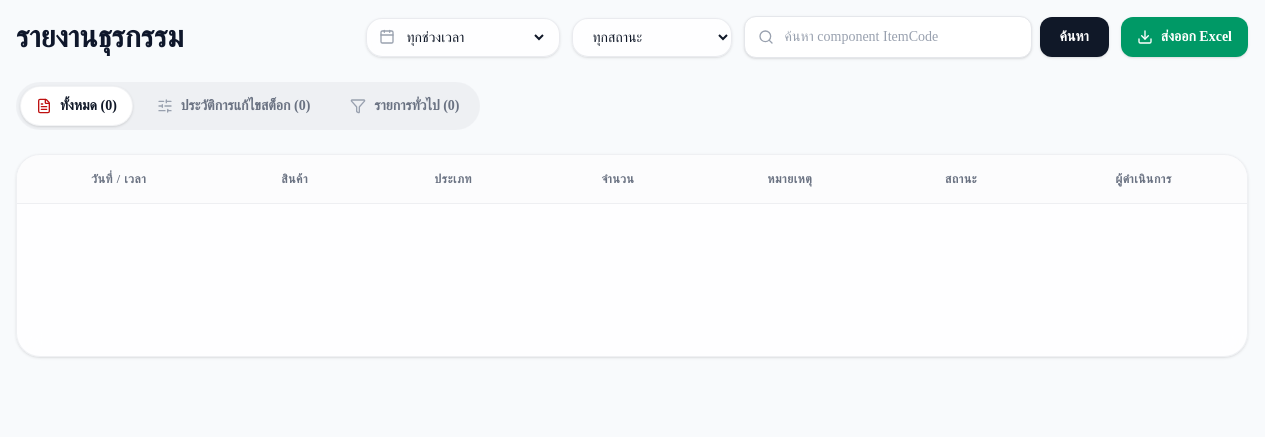
Test case: Reports Page — Excel Export UI Integration › 14. Date Range: Warns when End Date is selected but Start Date is missing
Select "กำหนดเอง" in the 1st dropdown: (474, 37) [402,24,546,50]
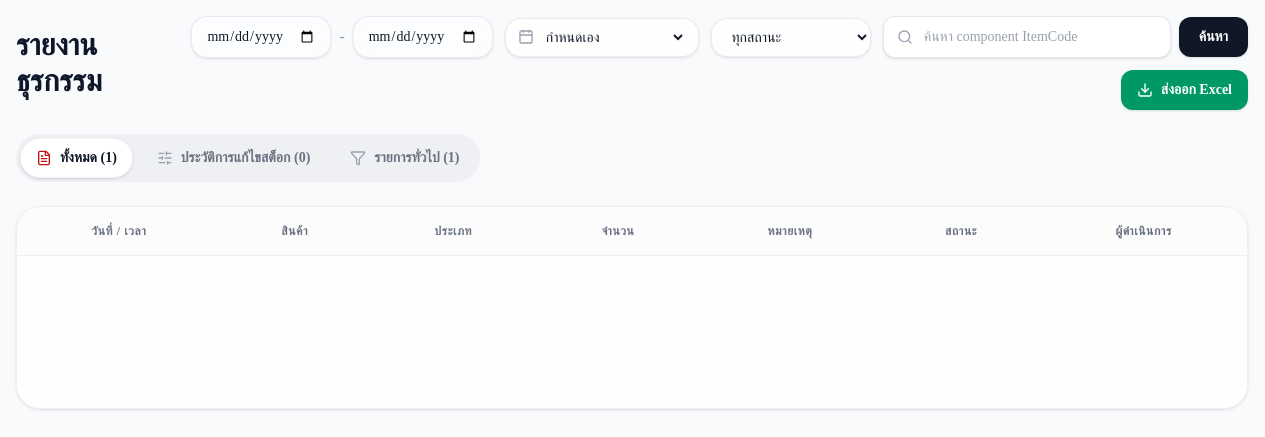
In the date field named "วันที่สิ้นสุด": (423, 37) [353,16,493,58], type "2026-08-31"
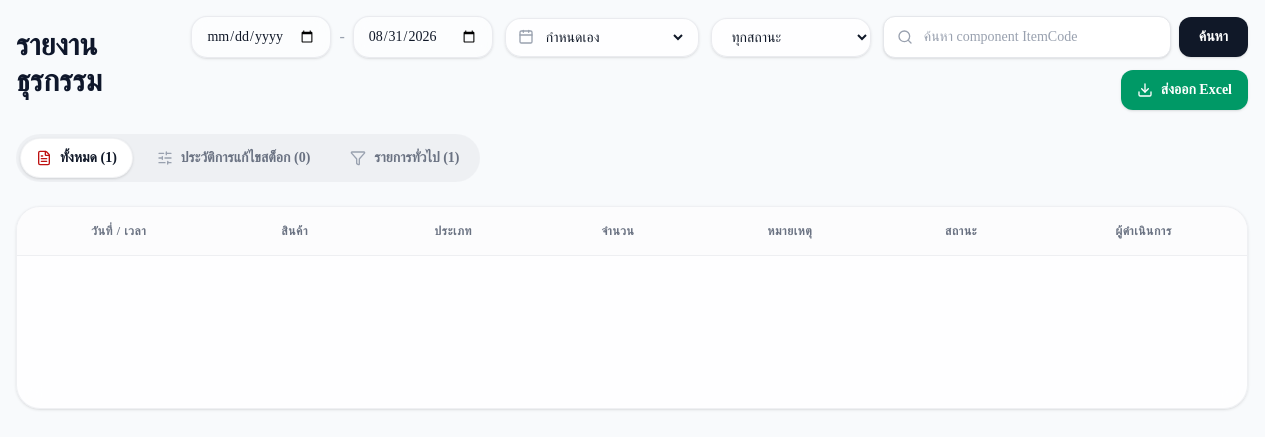
Click the button "ส่งออก Excel": click(1184, 90) [1121,70,1248,110]
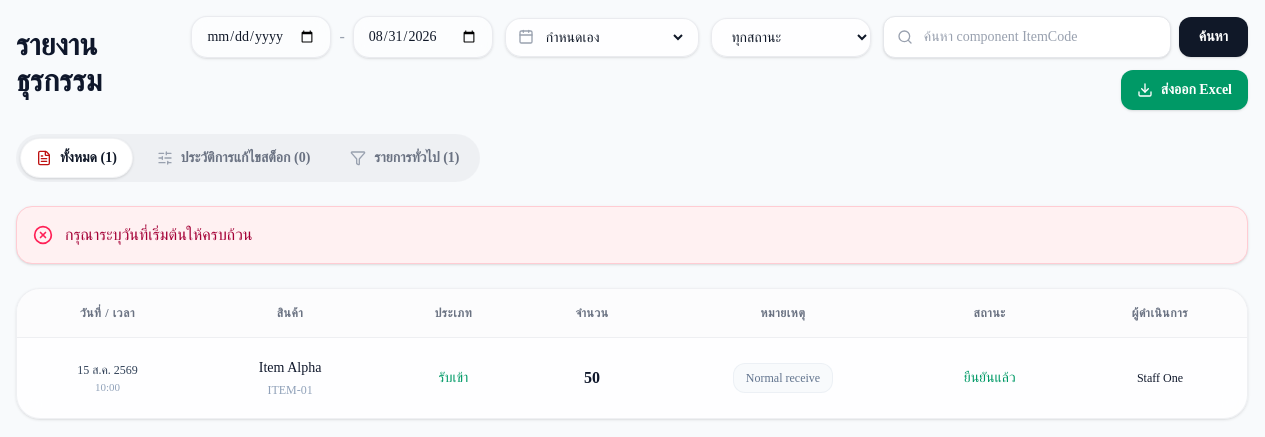
expect the text "กรุณาระบุวันที่เริ่มต้นให้ครบถ้วน" is shown: met, box [65,223,252,247]
